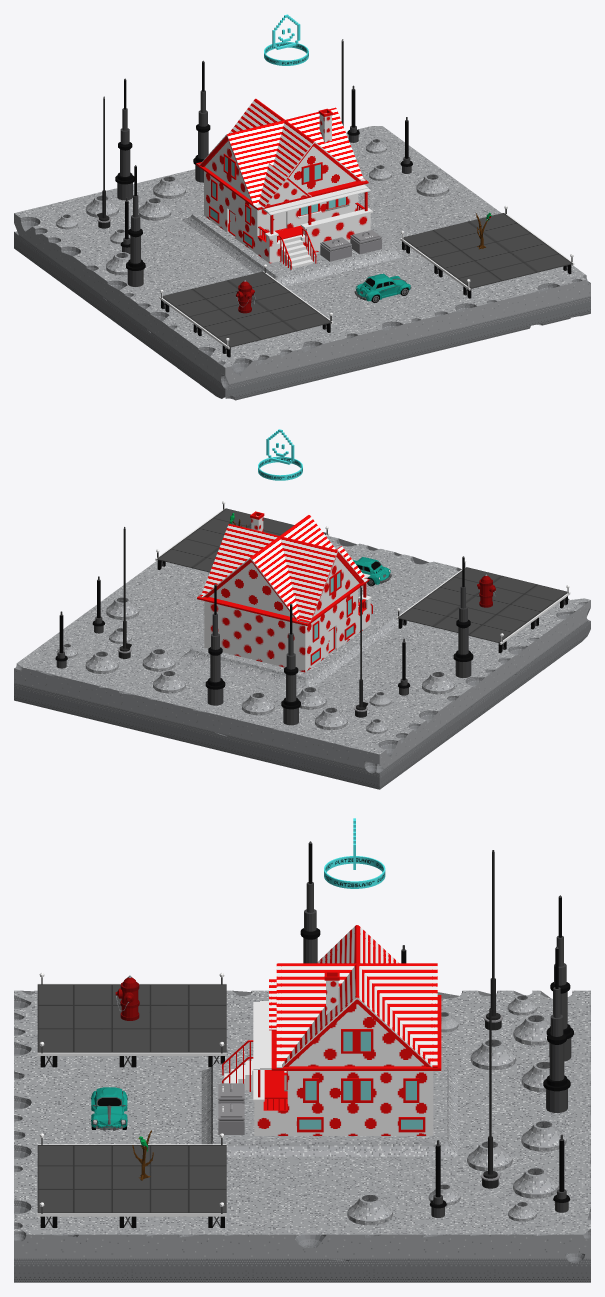
3 renders of one model, top to bottom at view 1: azimuth 30°, elevation 25°; view 2: azimuth 150°, elevation 25°; view 3: azimuth 270°, elevation 25°, orthographic. The views are drawn at different scales.
Parts seen in each view (by area): view 1: Cube.027, Cube.196, Cube.026, Cube.025, Cube.028, Cylinder.021, Cylinder.020, VEHICLES_VOLKSWAGEN, Cylinder.017, TYPE_PREMIUM, Cube.029, Cube.030 (+3 smaller); view 2: Cube.027, Cube.196, Cube.025, Cube.028, Cube.026, Cylinder.017, Cylinder.021, Cylinder.020, TYPE_PREMIUM, VEHICLES_VOLKSWAGEN, Cylinder.030, Cylinder.029 (+7 smaller); view 3: Cube.027, Cube.196, Cube.026, Cube.025, Cube.028, Cylinder.017, VEHICLES_VOLKSWAGEN, Cylinder.020, Cylinder.021, TYPE_PREMIUM, Cylinder.033, Cylinder.031 (+11 smaller).
Part boxes in pixels (box(x1,y1,x2,y2)): Cube.027: box(14, 126, 590, 400); Cube.196: box(196, 98, 372, 269); Cube.026: box(400, 205, 574, 298); Cube.025: box(159, 264, 333, 357); Cube.028: box(182, 211, 403, 286); Cylinder.021: box(126, 165, 145, 286); Cylinder.020: box(115, 78, 134, 200); VEHICLES_VOLKSWAGEN: box(354, 273, 410, 302); Cylinder.017: box(193, 60, 210, 182); TYPE_PREMIUM: box(264, 14, 308, 65); Cube.029: box(320, 237, 351, 261); Cube.030: box(350, 230, 381, 254); Cube.027: box(14, 536, 590, 789); Cube.196: box(197, 511, 372, 672); Cube.025: box(396, 560, 570, 653); Cube.028: box(181, 610, 398, 688); Cube.026: box(155, 501, 329, 572); Cylinder.017: box(205, 583, 225, 705); Cylinder.021: box(453, 556, 473, 677); Cylinder.020: box(281, 603, 300, 725); TYPE_PREMIUM: box(258, 429, 302, 480); VEHICLES_VOLKSWAGEN: box(353, 557, 391, 586); Cylinder.030: box(142, 648, 175, 671); Cylinder.029: box(153, 670, 185, 693); Cube.027: box(14, 990, 590, 1282); Cube.196: box(222, 925, 441, 1135); Cube.026: box(37, 1133, 226, 1227); Cube.025: box(37, 973, 226, 1067); Cube.028: box(201, 1063, 457, 1156); Cylinder.017: box(543, 946, 570, 1112); VEHICLES_VOLKSWAGEN: box(91, 1087, 127, 1130); Cylinder.020: box(546, 895, 573, 1061); Cylinder.021: box(300, 841, 320, 963); TYPE_PREMIUM: box(324, 818, 385, 888); Cylinder.033: box(347, 1194, 392, 1225); Cylinder.031: box(513, 1167, 558, 1198).
Size of the model in its own units: 4000 by 2804 by 4000.
34 materials, 6 textured.
